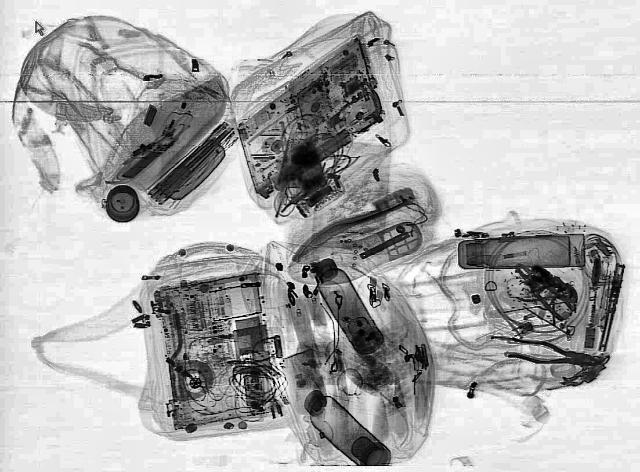Pliers: (503, 258, 583, 322), (502, 336, 606, 372)
